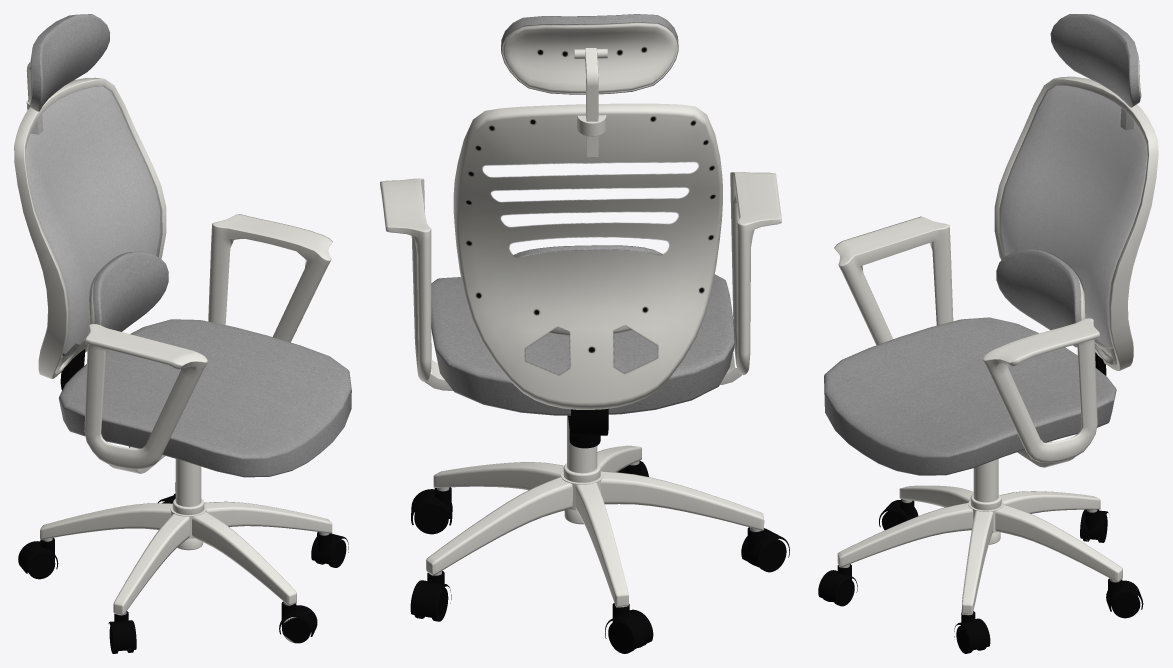
Rendered from chair1.glb.
3 renders of one model, left to right at view 1: azimuth 30°, elevation 25°; view 2: azimuth 150°, elevation 25°; view 3: azimuth 270°, elevation 25°, orthographic. The views are drawn at different scales.
Parts seen in each view (by area): view 1: chair_41_0; view 2: chair_41_0; view 3: chair_41_0.
Part boxes in pixels (bbox=[...]): chair_41_0: bbox=[14, 14, 351, 653]; chair_41_0: bbox=[380, 14, 789, 653]; chair_41_0: bbox=[818, 14, 1158, 653].
Bounding box in the file's own units: 0.6649 × 1.14 × 0.6675.
1 material, 1 textured.
